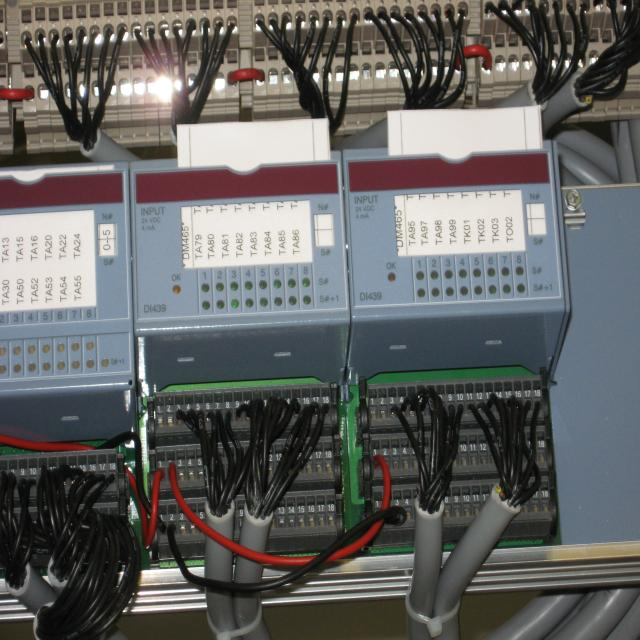SPS-System -Steuerungskomponente-: (339, 137, 569, 325), (130, 149, 351, 334), (0, 165, 134, 397)
